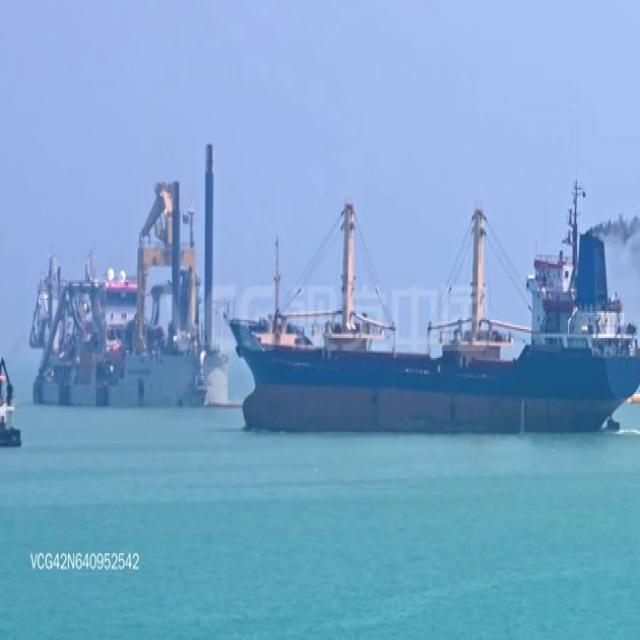cargoship: (225, 180, 640, 435), (27, 144, 230, 407)
